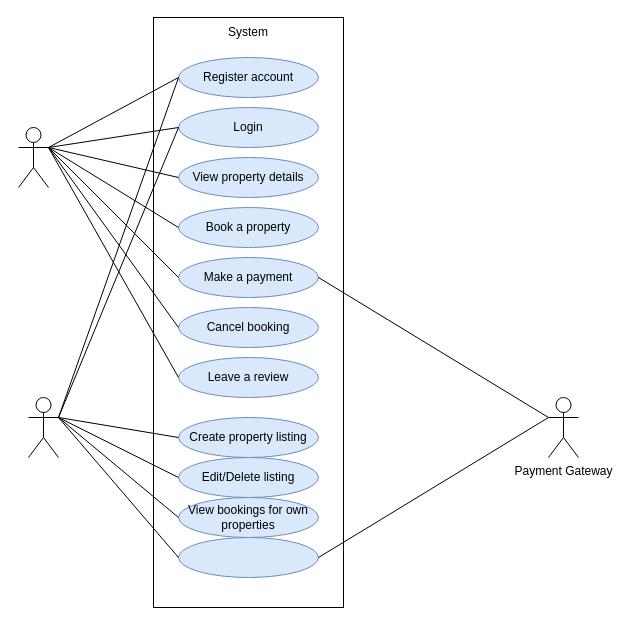
Some shapes in this 630 by 625 pixel diagram are drawn without their labels. The centre of each missing label's shape, as x and y in pixels:
"Guest" belongs at point (33, 157).
"Host" belongs at point (43, 427).
"Receive payments" belongs at point (248, 557).
